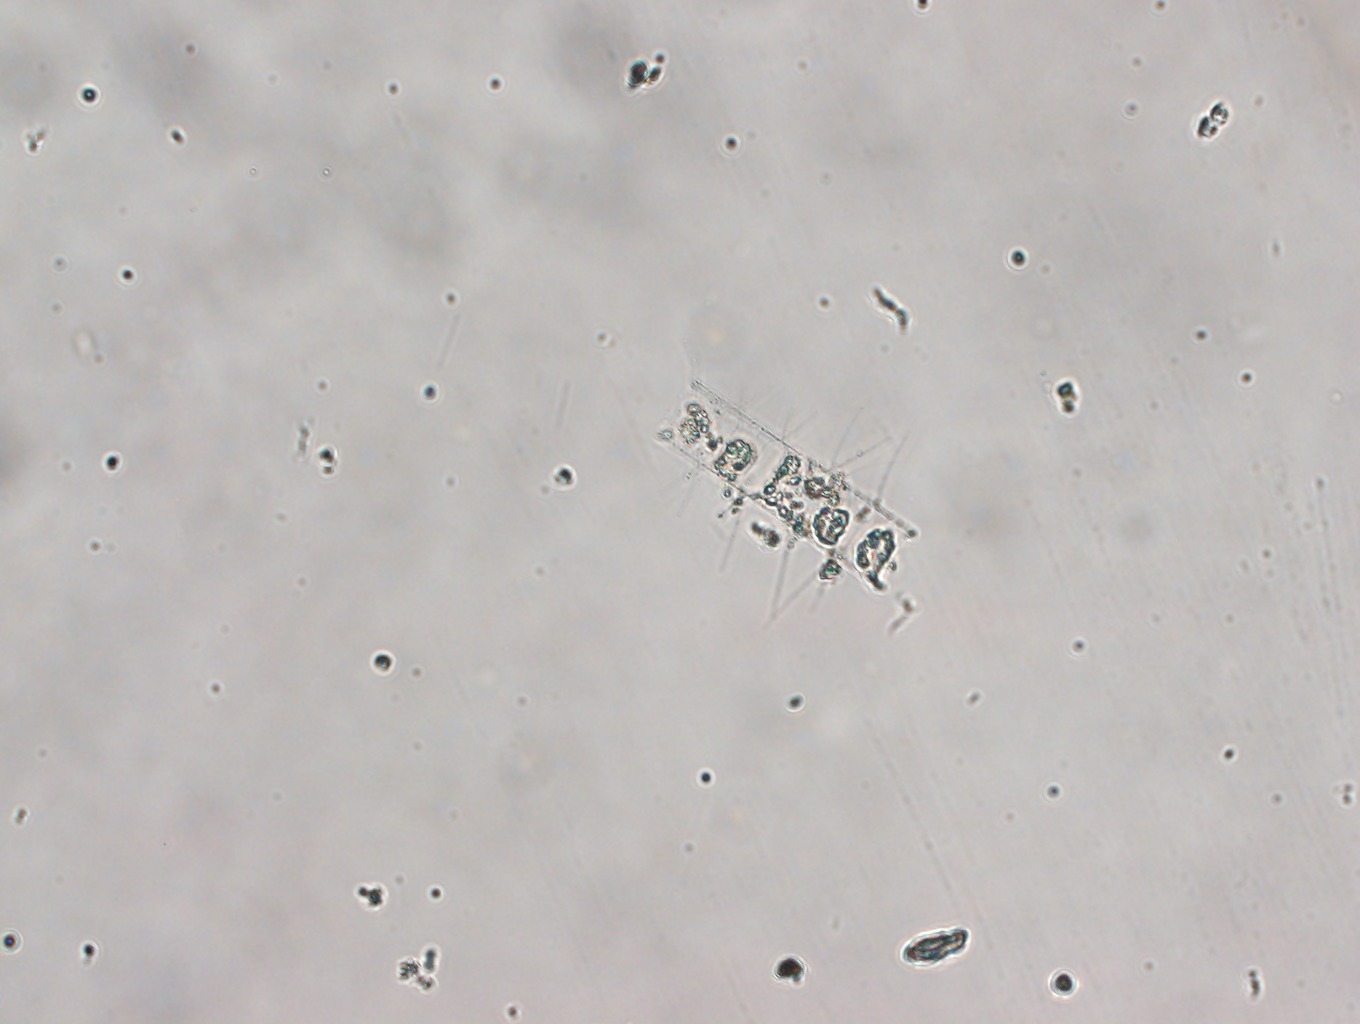chaetoceros: (639, 342, 918, 623)
